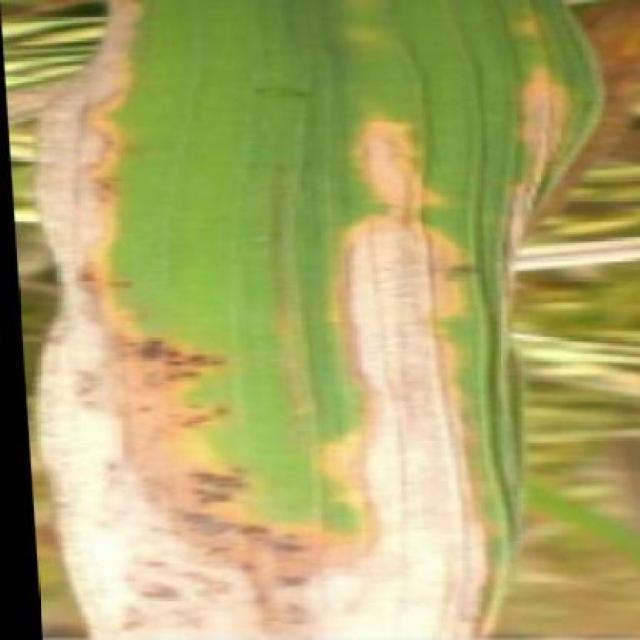Leaf_Blast: (160, 457, 274, 541), (135, 310, 243, 384), (219, 506, 321, 583), (136, 393, 249, 461), (111, 552, 184, 639), (236, 582, 330, 640)
